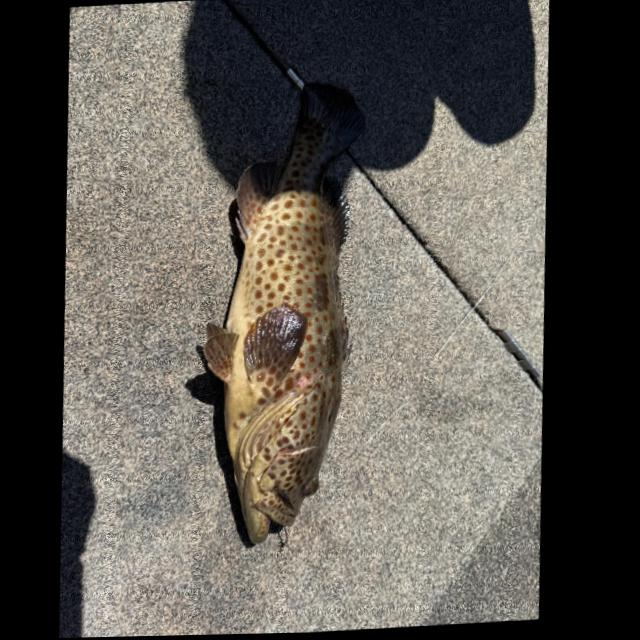Groupers: (181, 74, 392, 548)
